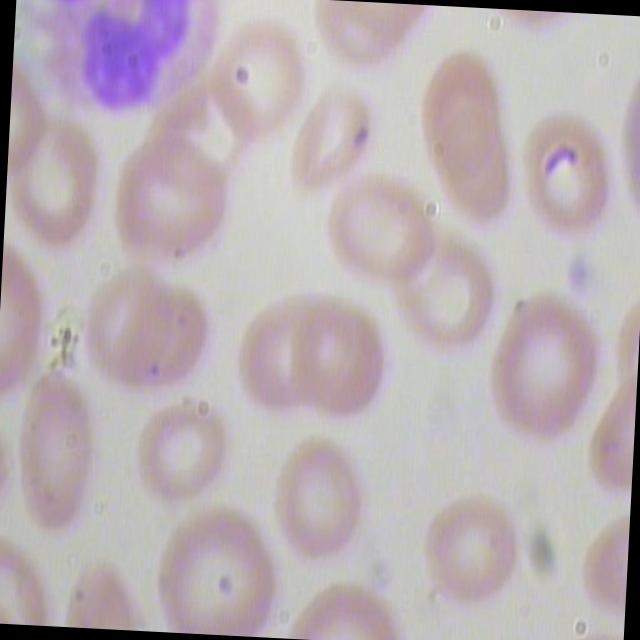RBC: (480, 284, 604, 460), (142, 504, 292, 638), (319, 164, 441, 303), (504, 117, 626, 256), (382, 228, 504, 366), (107, 140, 230, 272), (195, 18, 318, 150), (265, 432, 377, 568), (276, 83, 388, 218), (284, 300, 396, 434), (10, 370, 98, 540), (220, 291, 318, 425), (68, 262, 172, 388), (112, 277, 215, 403), (122, 392, 232, 508), (421, 495, 521, 613), (412, 46, 512, 164), (421, 115, 521, 232)
WBC: (31, 0, 234, 124)
